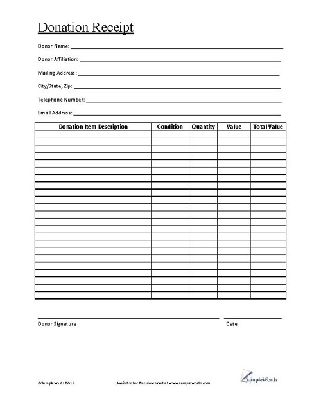textbox: (33, 156, 154, 169), (33, 201, 154, 213), (33, 186, 153, 198), (33, 260, 153, 272), (33, 129, 154, 140), (33, 136, 154, 147), (33, 143, 154, 154), (33, 172, 154, 183), (33, 195, 154, 206), (33, 246, 154, 257), (33, 267, 154, 278), (33, 282, 154, 293), (33, 165, 153, 176), (34, 179, 154, 190), (33, 209, 153, 220), (33, 216, 153, 227), (33, 224, 153, 235), (33, 231, 153, 242), (33, 253, 153, 264), (33, 275, 153, 286), (33, 289, 153, 300), (33, 151, 154, 161), (33, 239, 154, 249), (148, 187, 192, 199), (150, 127, 190, 140), (248, 187, 289, 199), (249, 143, 289, 155), (248, 150, 288, 162), (248, 172, 288, 184), (149, 180, 192, 191), (149, 246, 192, 257), (150, 165, 192, 176), (149, 172, 191, 183), (149, 194, 191, 205), (149, 209, 191, 220), (149, 224, 191, 235), (149, 253, 191, 264), (149, 260, 191, 271), (150, 143, 191, 154), (150, 150, 191, 161), (149, 231, 190, 242), (149, 267, 190, 278), (150, 282, 191, 293), (248, 180, 289, 191), (216, 267, 253, 279), (150, 158, 190, 169), (150, 275, 190, 286), (248, 158, 288, 169), (248, 195, 288, 206), (249, 224, 289, 235), (248, 239, 288, 250), (249, 253, 289, 264), (249, 260, 289, 271), (249, 290, 289, 301), (249, 165, 288, 176), (249, 202, 288, 213), (249, 231, 288, 242), (249, 246, 288, 257), (249, 267, 288, 278), (149, 202, 191, 212), (150, 290, 192, 300), (217, 128, 252, 140), (215, 143, 253, 154), (215, 158, 253, 169), (215, 172, 253, 183), (215, 209, 253, 220), (215, 231, 253, 242), (250, 128, 288, 139), (150, 239, 191, 249), (216, 150, 253, 161), (216, 217, 253, 228), (216, 224, 253, 235), (216, 246, 253, 257), (216, 253, 253, 264), (216, 275, 253, 286), (216, 282, 253, 293), (150, 136, 190, 146), (150, 217, 190, 227), (249, 137, 289, 147), (249, 210, 289, 220), (249, 217, 289, 227), (216, 136, 252, 147), (216, 260, 252, 271), (249, 275, 288, 285), (249, 283, 288, 293), (217, 290, 252, 301), (215, 202, 253, 212), (216, 166, 253, 176), (216, 180, 253, 190), (216, 187, 253, 197), (216, 195, 253, 205), (216, 239, 253, 249), (187, 188, 220, 199), (188, 209, 221, 220), (187, 253, 220, 264), (188, 282, 221, 293), (188, 150, 220, 161), (188, 165, 220, 176), (187, 173, 219, 184), (187, 180, 219, 191), (188, 194, 220, 205), (188, 202, 220, 213), (188, 224, 220, 235), (187, 231, 219, 242), (188, 260, 220, 271), (188, 143, 219, 154), (187, 158, 220, 168), (188, 137, 220, 147), (188, 239, 220, 249), (188, 246, 220, 256), (188, 268, 220, 278), (188, 275, 220, 285), (188, 290, 220, 300), (188, 129, 219, 139), (188, 217, 219, 227)
textline: (36, 305, 221, 321), (69, 37, 285, 50), (71, 107, 284, 118), (73, 80, 284, 91), (78, 53, 284, 64), (77, 67, 282, 78), (85, 93, 284, 104), (222, 305, 285, 320)
